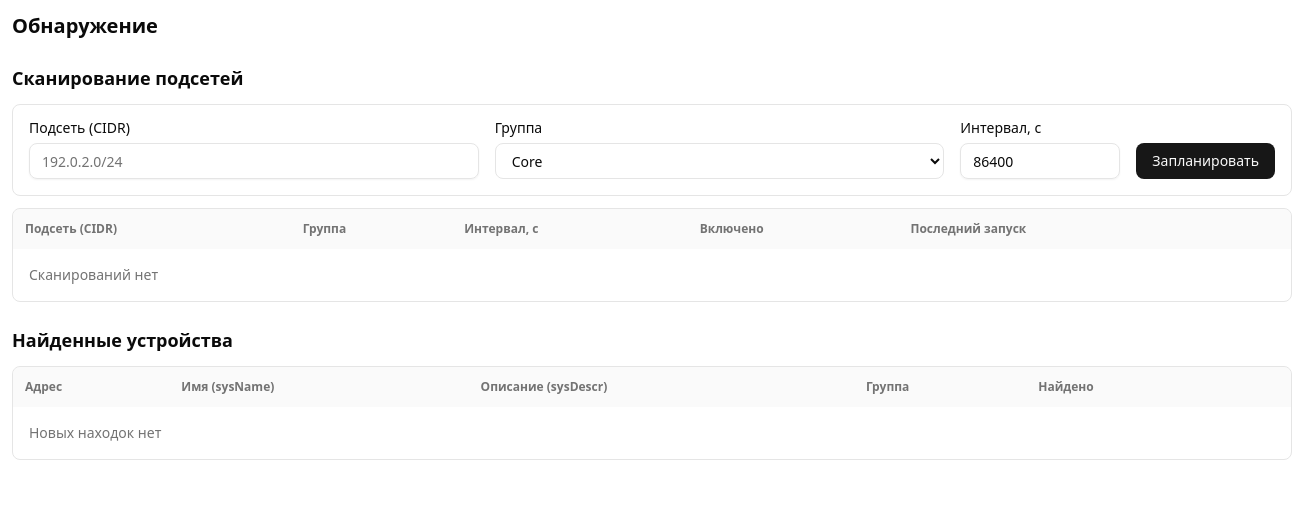
Scenario: scan form › shows the wide-prefix error from the API in plain words, not the server message
The image size is (1292, 513).
In the field labelled "Подсеть (CIDR)": (254, 161) [29,143,479,179], type "10.0.0.0/15"
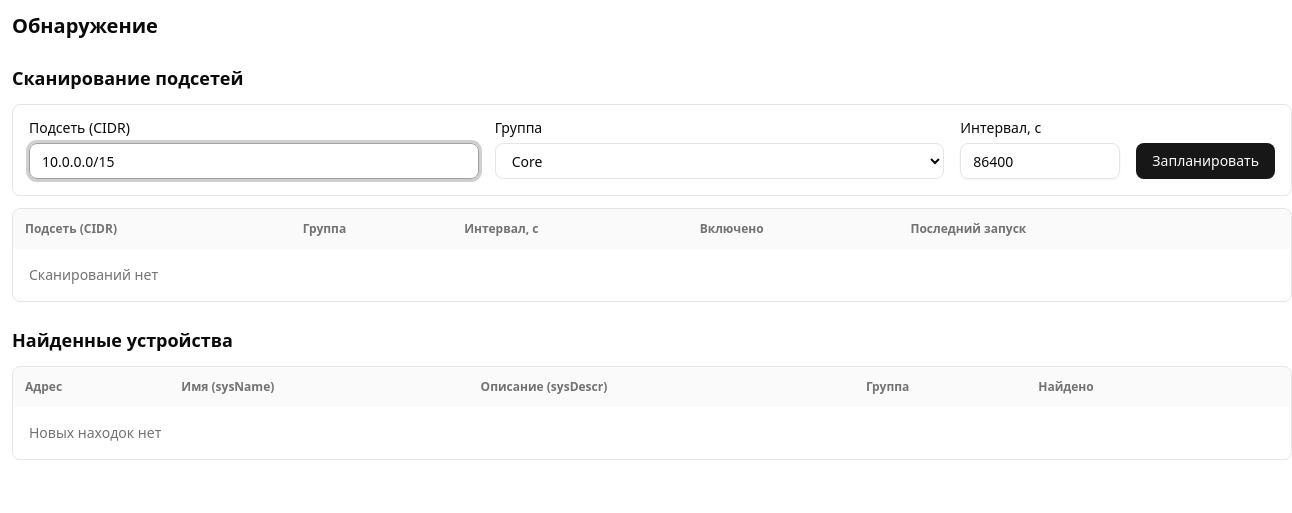
Click the button "Запланировать": (1206, 161) [1136,143,1275,179]
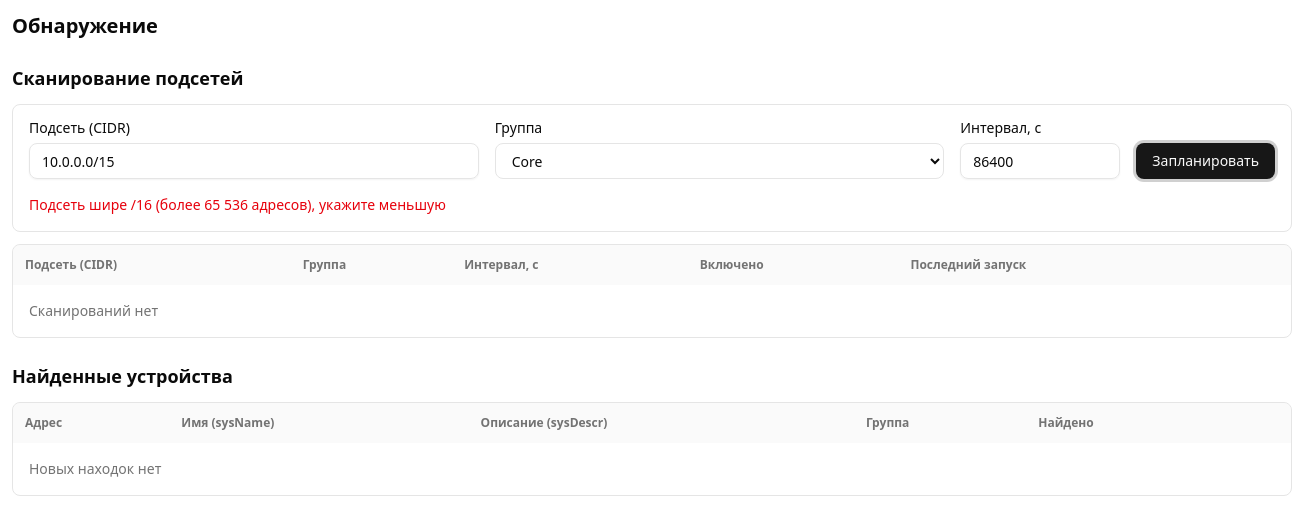
Expected: the message reads "Подсеть шире /16 (более 65 536 адресов), укажите меньшую", [29,195,446,214]
